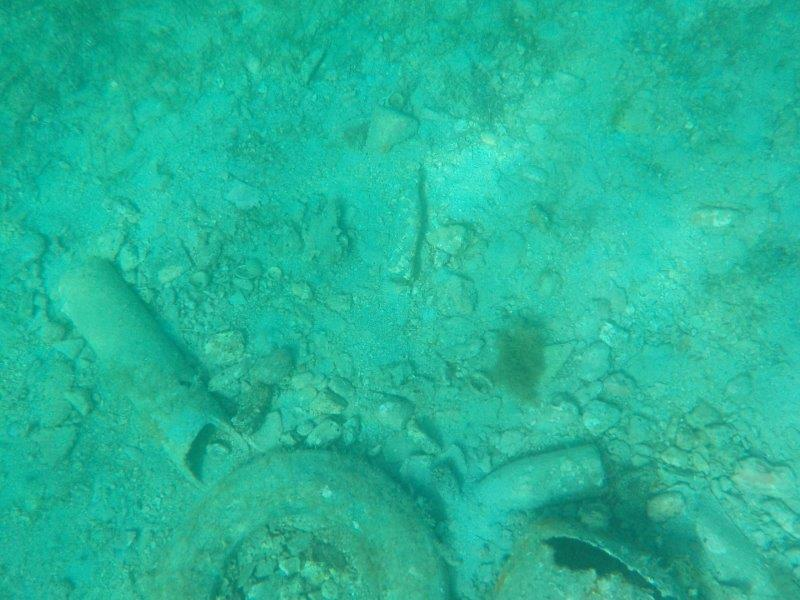bottle: (459, 439, 613, 517), (379, 158, 431, 292)
tire: (152, 439, 458, 600)
